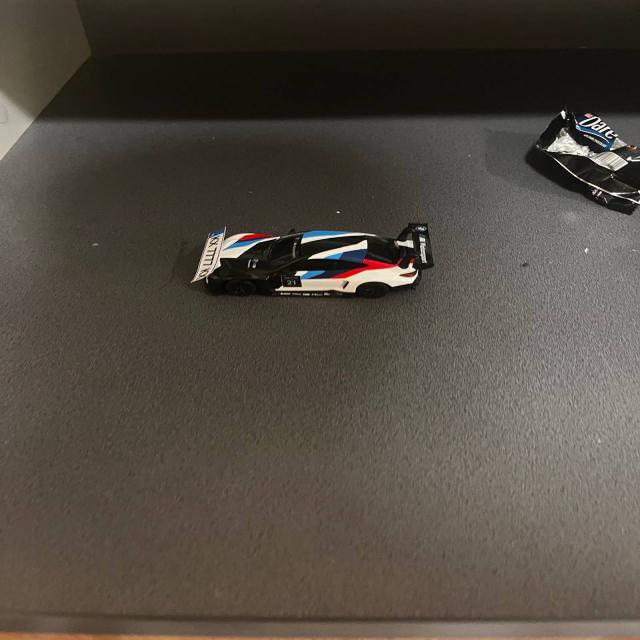cars: (164, 209, 447, 309)
